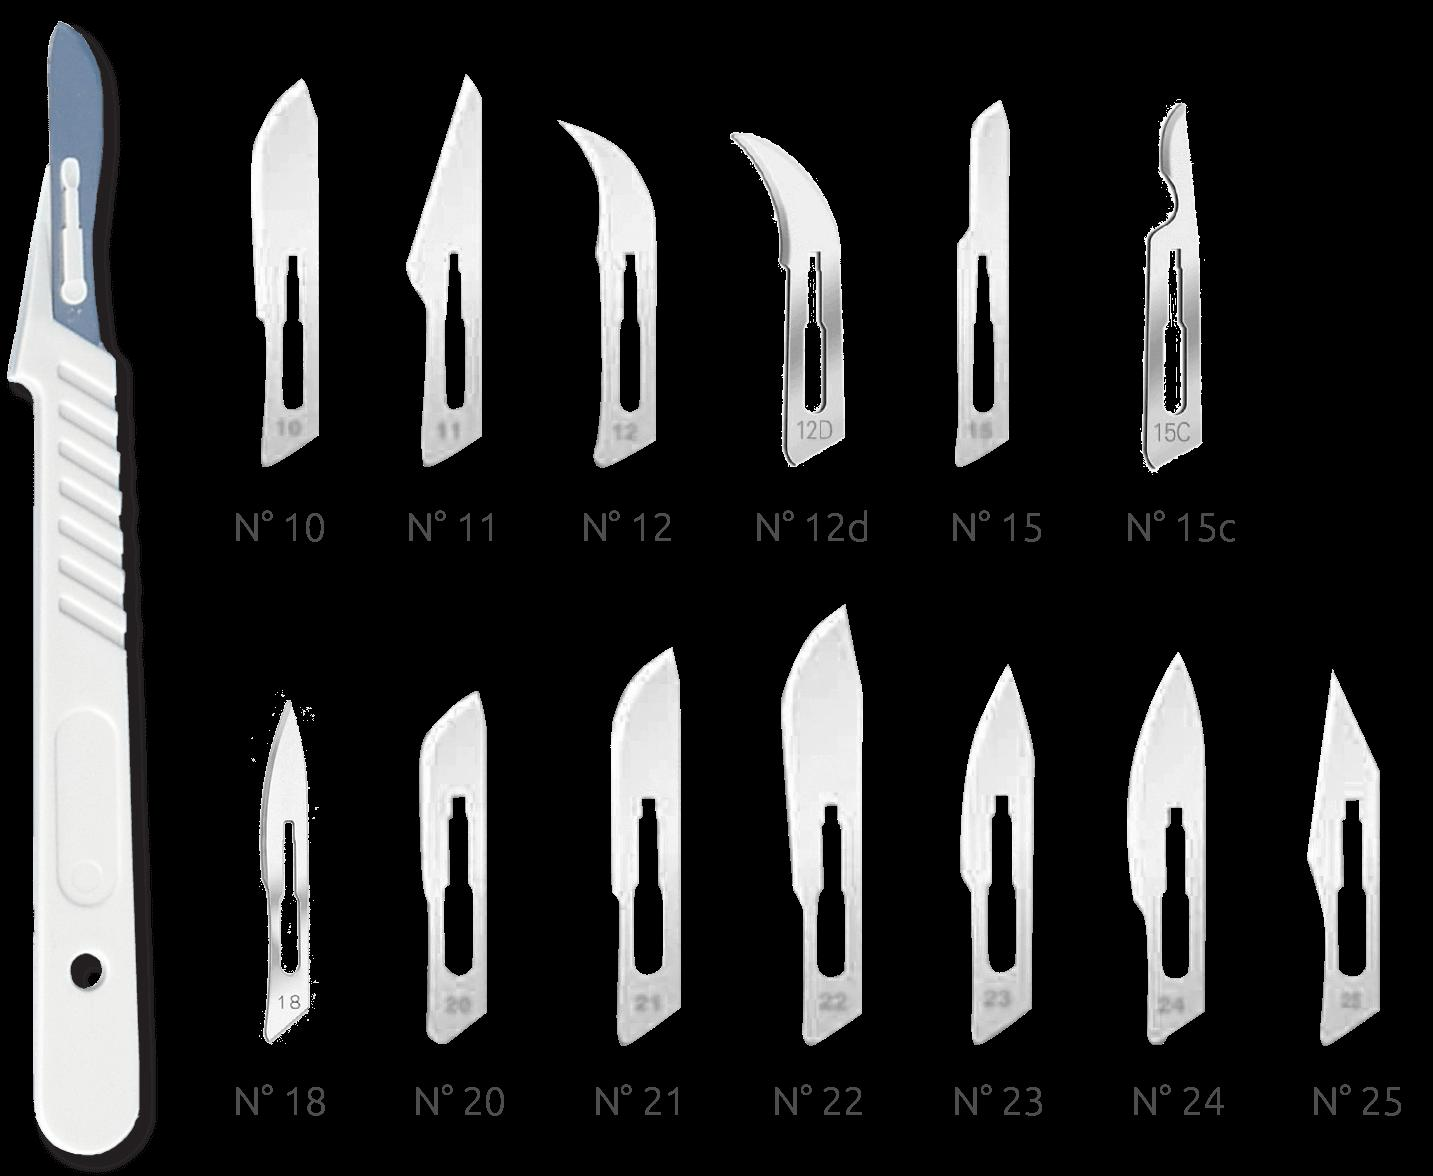Surgical blade: (757, 595, 885, 1053), (722, 128, 865, 488), (232, 77, 347, 487), (593, 635, 703, 1053), (557, 113, 680, 480), (1107, 647, 1217, 1048), (395, 688, 503, 1060), (17, 15, 142, 333), (232, 678, 332, 1047), (950, 667, 1045, 1053), (1125, 105, 1218, 488), (1295, 665, 1388, 1048), (940, 92, 1018, 463)
